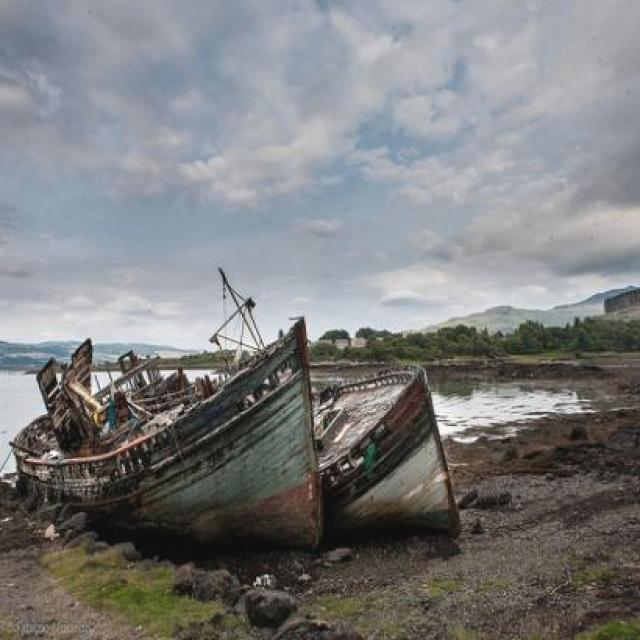ship: (5, 318, 326, 566), (248, 358, 470, 550)
